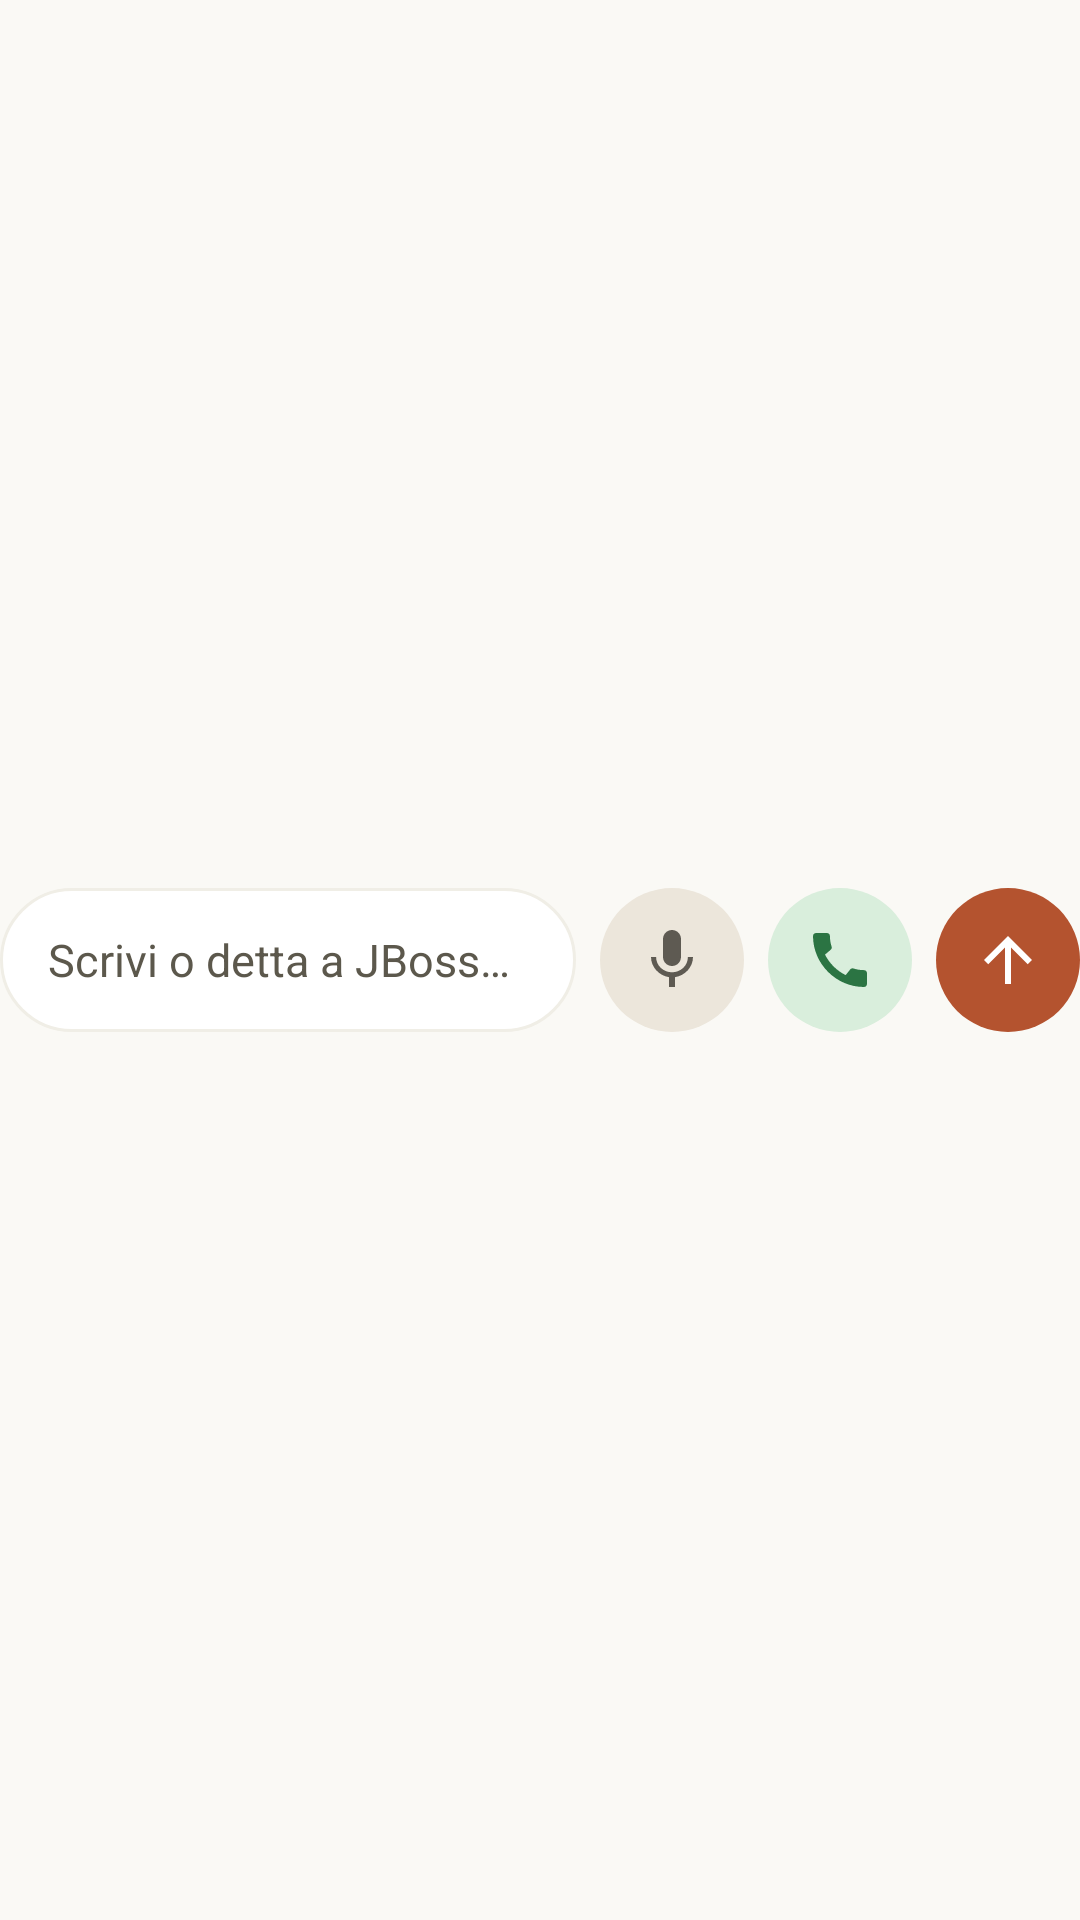

Icons on this 1080 x 1920 Android screen, each with the point to tap as (x=x, y=y):
Invia: (x=1008, y=960)
mic: (x=672, y=960)
telefono: (x=840, y=960)
